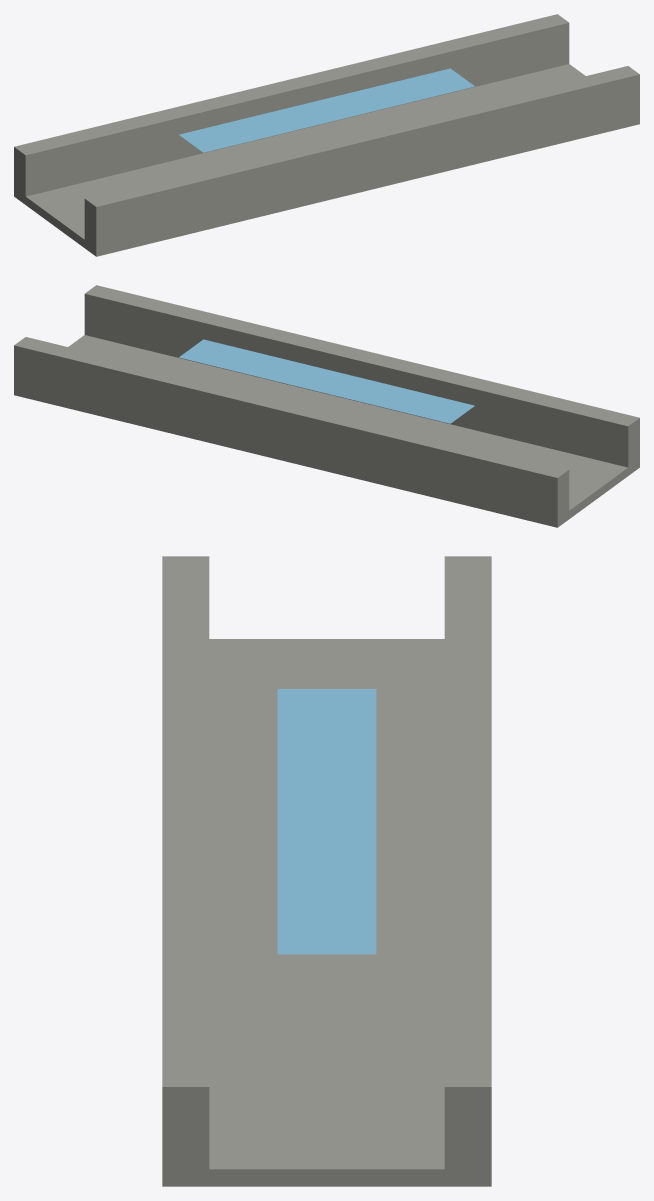
Rendered from Env_WaterChannel_Segment.fbx.
The picture shows the model from 3 angles, top to bottom: view 1: azimuth 30°, elevation 25°; view 2: azimuth 150°, elevation 25°; view 3: azimuth 270°, elevation 25°; orthographic projection. The views are drawn at different scales.
Visible parts, largest first — view 1: Env_WaterChannel_Segment; view 2: Env_WaterChannel_Segment; view 3: Env_WaterChannel_Segment.
Boxes of the visible parts, <box> form: Env_WaterChannel_Segment: <box>14,14,639,256</box>; Env_WaterChannel_Segment: <box>14,285,639,527</box>; Env_WaterChannel_Segment: <box>162,556,491,1186</box>.
Size of the model in its own units: 4 by 0.35 by 1.05.
